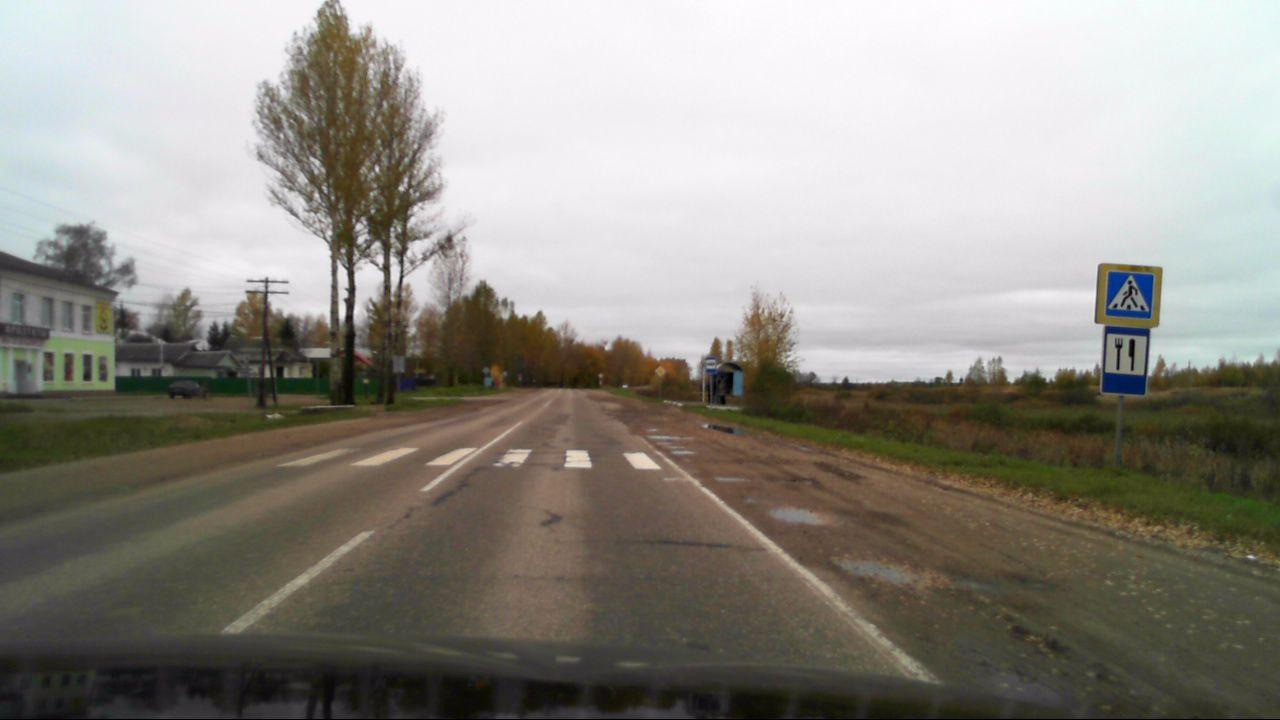5_16: (702, 356, 717, 374)
5_19_1: (1101, 264, 1161, 324)
7_7: (1101, 329, 1149, 394)
